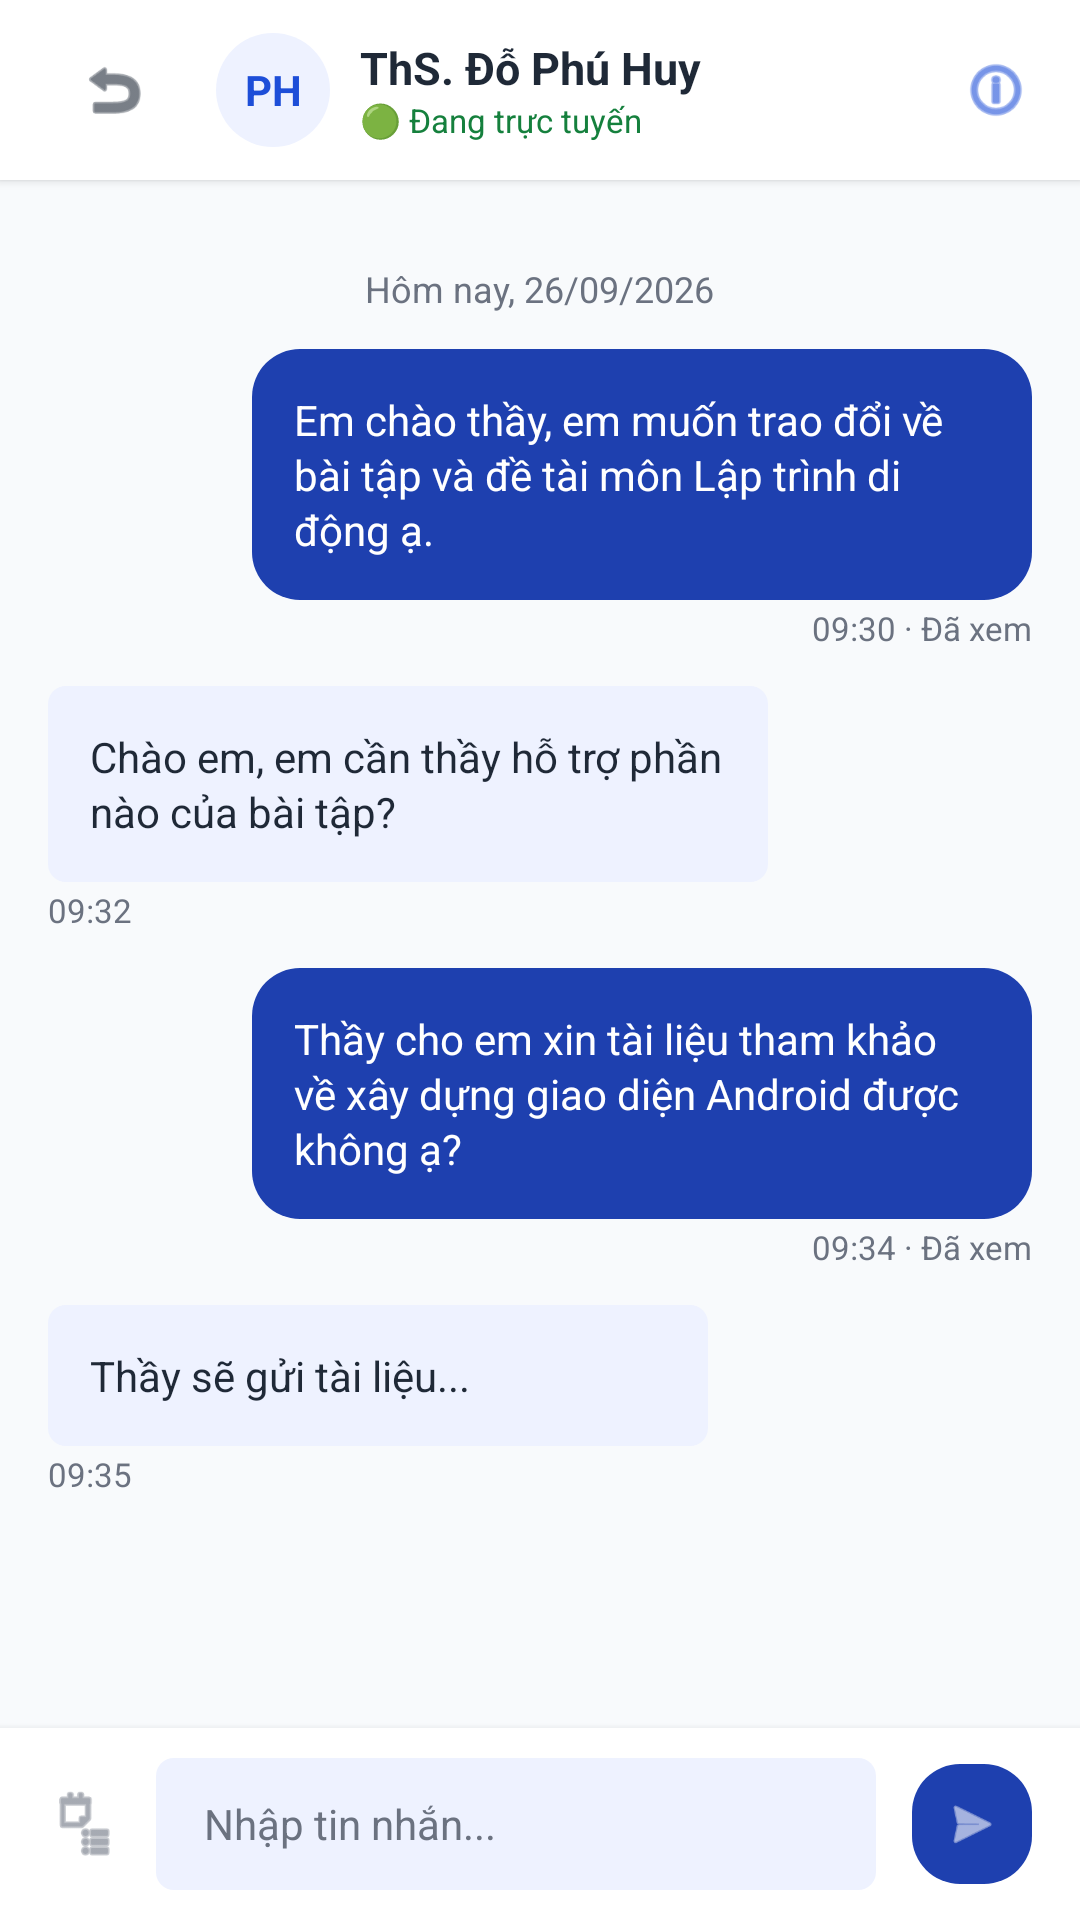

Named icons in this screenshot (1080*1920) and their bounding boxes, {"left": x1, "top": y1, "right": x2, "bottom": y2}:
Back: {"left": 89, "top": 67, "right": 141, "bottom": 114}
Info: {"left": 970, "top": 64, "right": 1022, "bottom": 116}
Send: {"left": 953, "top": 1805, "right": 992, "bottom": 1843}
